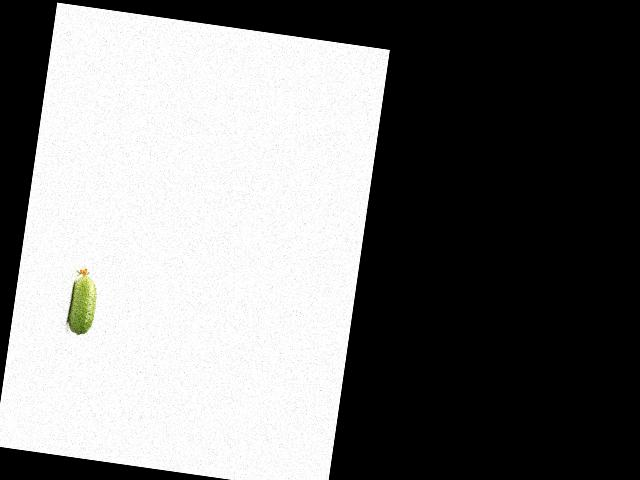cucumber: (65, 267, 100, 337)
